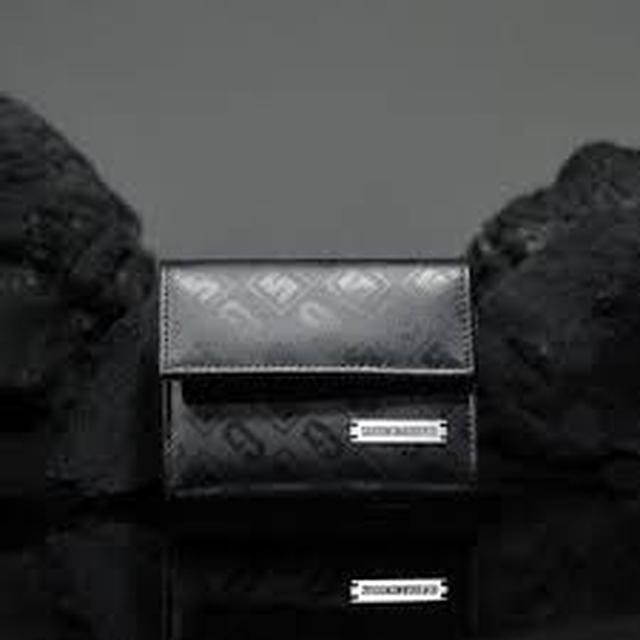wallet: (139, 243, 501, 510)
